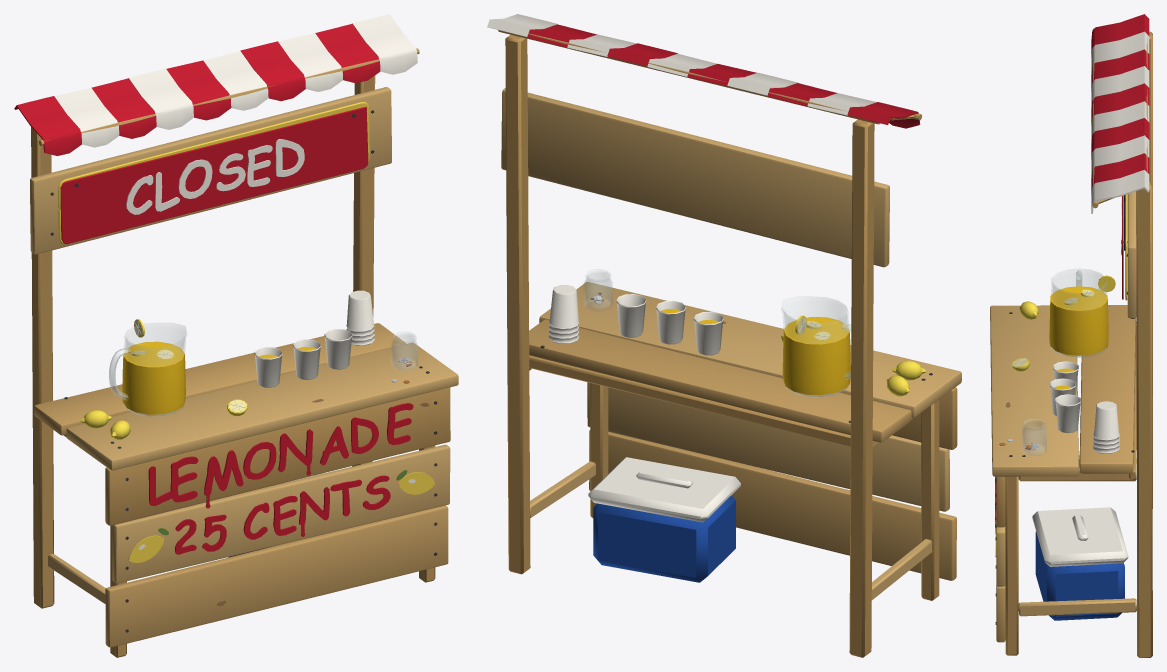
Rendered from lemonade_stand.glb.
3 renders of one model, left to right at view 1: azimuth 30°, elevation 25°; view 2: azimuth 150°, elevation 25°; view 3: azimuth 270°, elevation 25°, orthographic. The views are drawn at different scales.
Parts seen in each view (by area): view 1: LemonadeStand_Body, SignClosed, LemonadeStand_Goods, SignOpen; view 2: LemonadeStand_Body, LemonadeStand_Goods; view 3: LemonadeStand_Body, LemonadeStand_Goods, SignOpen, SignClosed.
Part boxes in pixels (x1,y1,x2,y2): LemonadeStand_Body: [14, 14, 458, 657]; SignClosed: [60, 107, 368, 244]; LemonadeStand_Goods: [80, 290, 417, 557]; SignOpen: [58, 102, 369, 244]; LemonadeStand_Body: [487, 14, 961, 657]; LemonadeStand_Goods: [548, 269, 925, 582]; LemonadeStand_Body: [990, 14, 1152, 657]; LemonadeStand_Goods: [999, 268, 1128, 620]; SignOpen: [1124, 194, 1127, 300]; SignClosed: [1121, 195, 1127, 299].
Bounding box in the file's own units: 1.58 × 2.03 × 0.6208.
